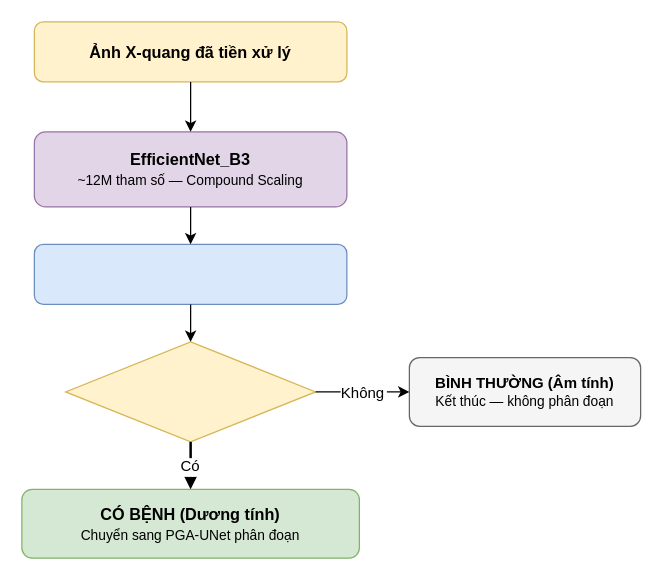
This 663x580 diagram has some shape labels left out. The shapes that lost their labels are listed below. From the top down, each one's box as (x1, y1, x2, y2) in pixels, then its label:
(33, 243, 347, 304): Lớp phân lớp + Sigmoid → p ∈ (0,1)
(64, 341, 316, 442): p ≥ 0.5 ?
